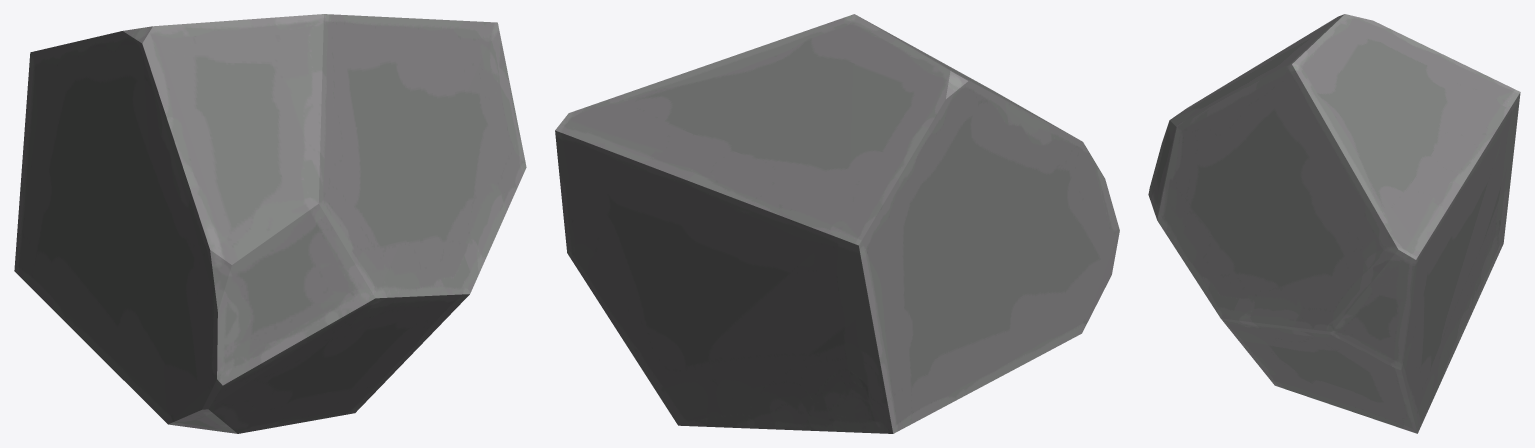
File: piedra.obj
3 views of the same model, side by side, from view 1: azimuth 30°, elevation 25°; view 2: azimuth 150°, elevation 25°; view 3: azimuth 270°, elevation 25° (orthographic). The views are drawn at different scales.
Parts seen in each view (by area): view 1: node_id4; view 2: node_id4; view 3: node_id4.
Boxes of the visible parts, x1,y1,x2,y2 form: node_id4: [14, 14, 526, 433]; node_id4: [555, 14, 1119, 433]; node_id4: [1148, 14, 1520, 433].
Bounding box in the file's own units: 17.08 × 15.14 × 15.62.
Materials: 1 (1 with a texture image).
